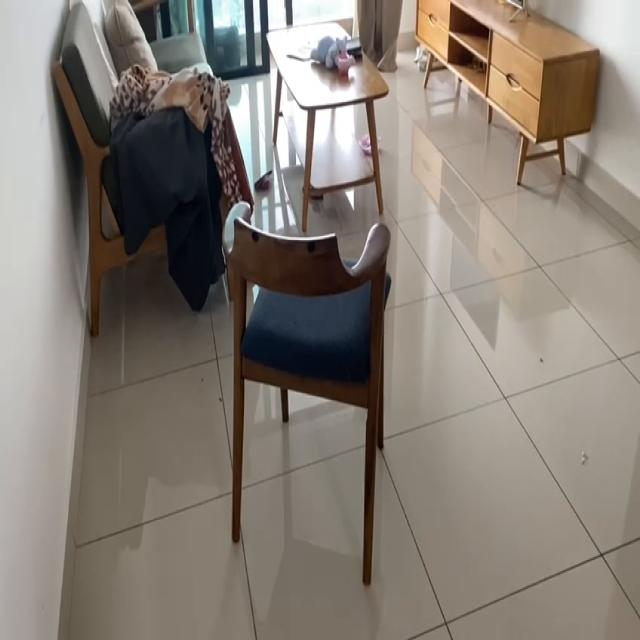Chair: (219, 192, 402, 606)
